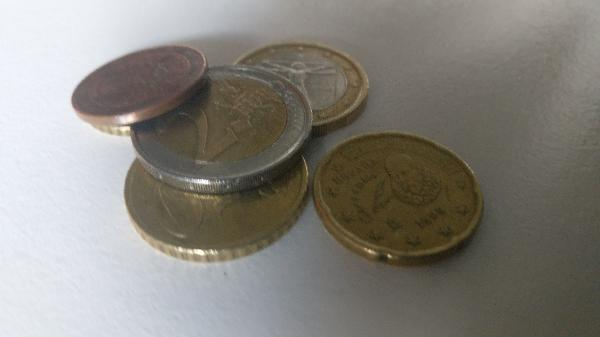Fifty Cent: (125, 152, 307, 262)
Five Cent: (69, 42, 216, 128)
One Euro: (233, 43, 372, 135)
Twenty Cent: (313, 129, 488, 264)
Two Euro: (126, 66, 316, 186)
